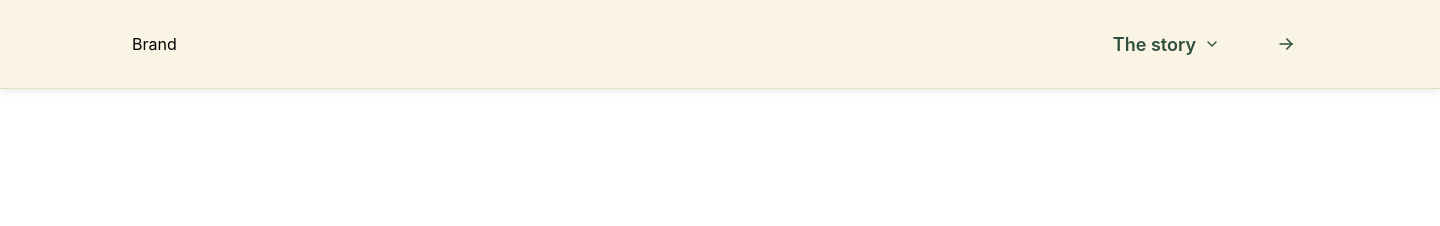
Test case: supports keyboard section selection and closes the picker after choosing a section
Step 1. Press ArrowDown in the button "The story", box [1113, 22, 1220, 66]
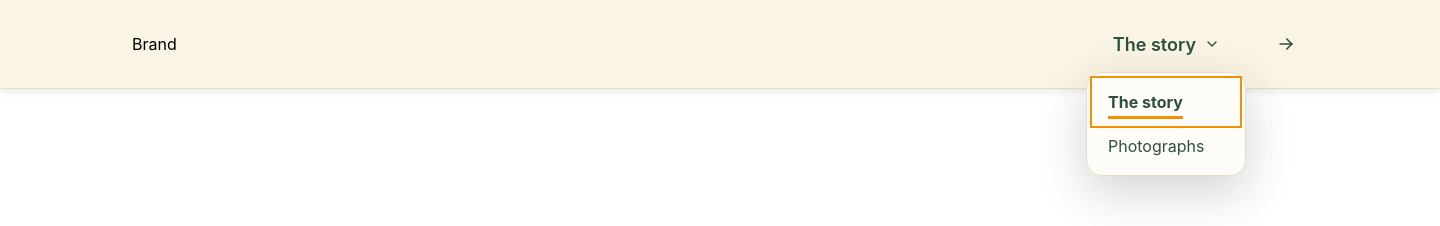
Step 2. Click the menu item "Photographs" → (1156, 146), box [1108, 136, 1204, 156]
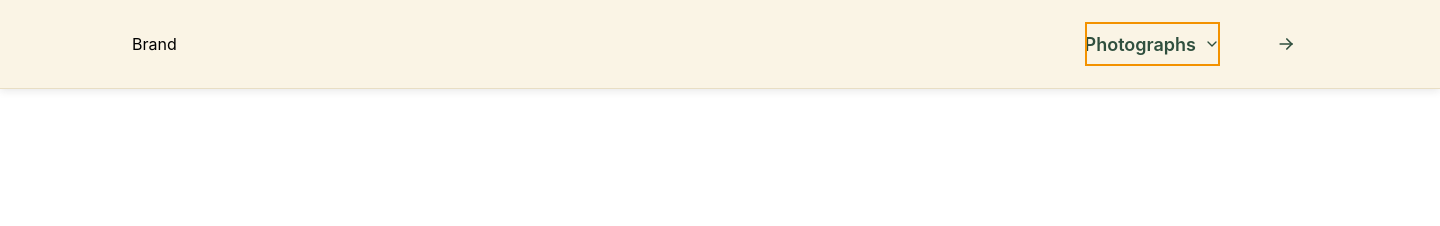
Now the menu is gone
Now the button "Photographs" is collapsed, box [1084, 22, 1220, 66]
